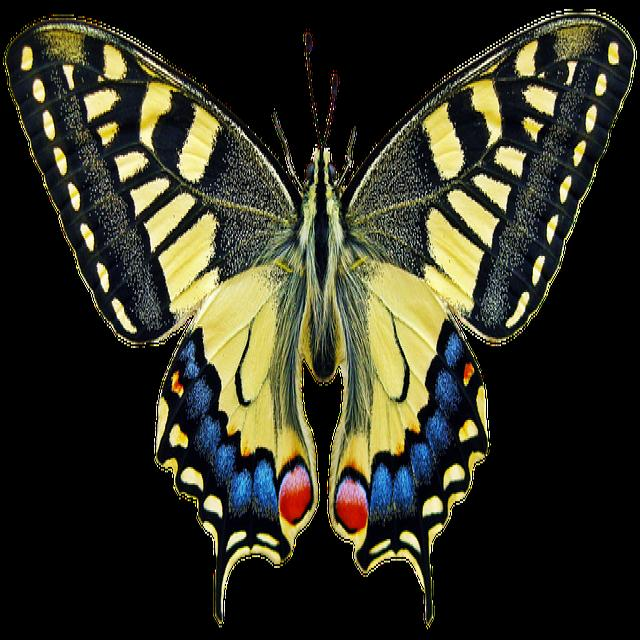butterfly: (3, 5, 636, 628)
